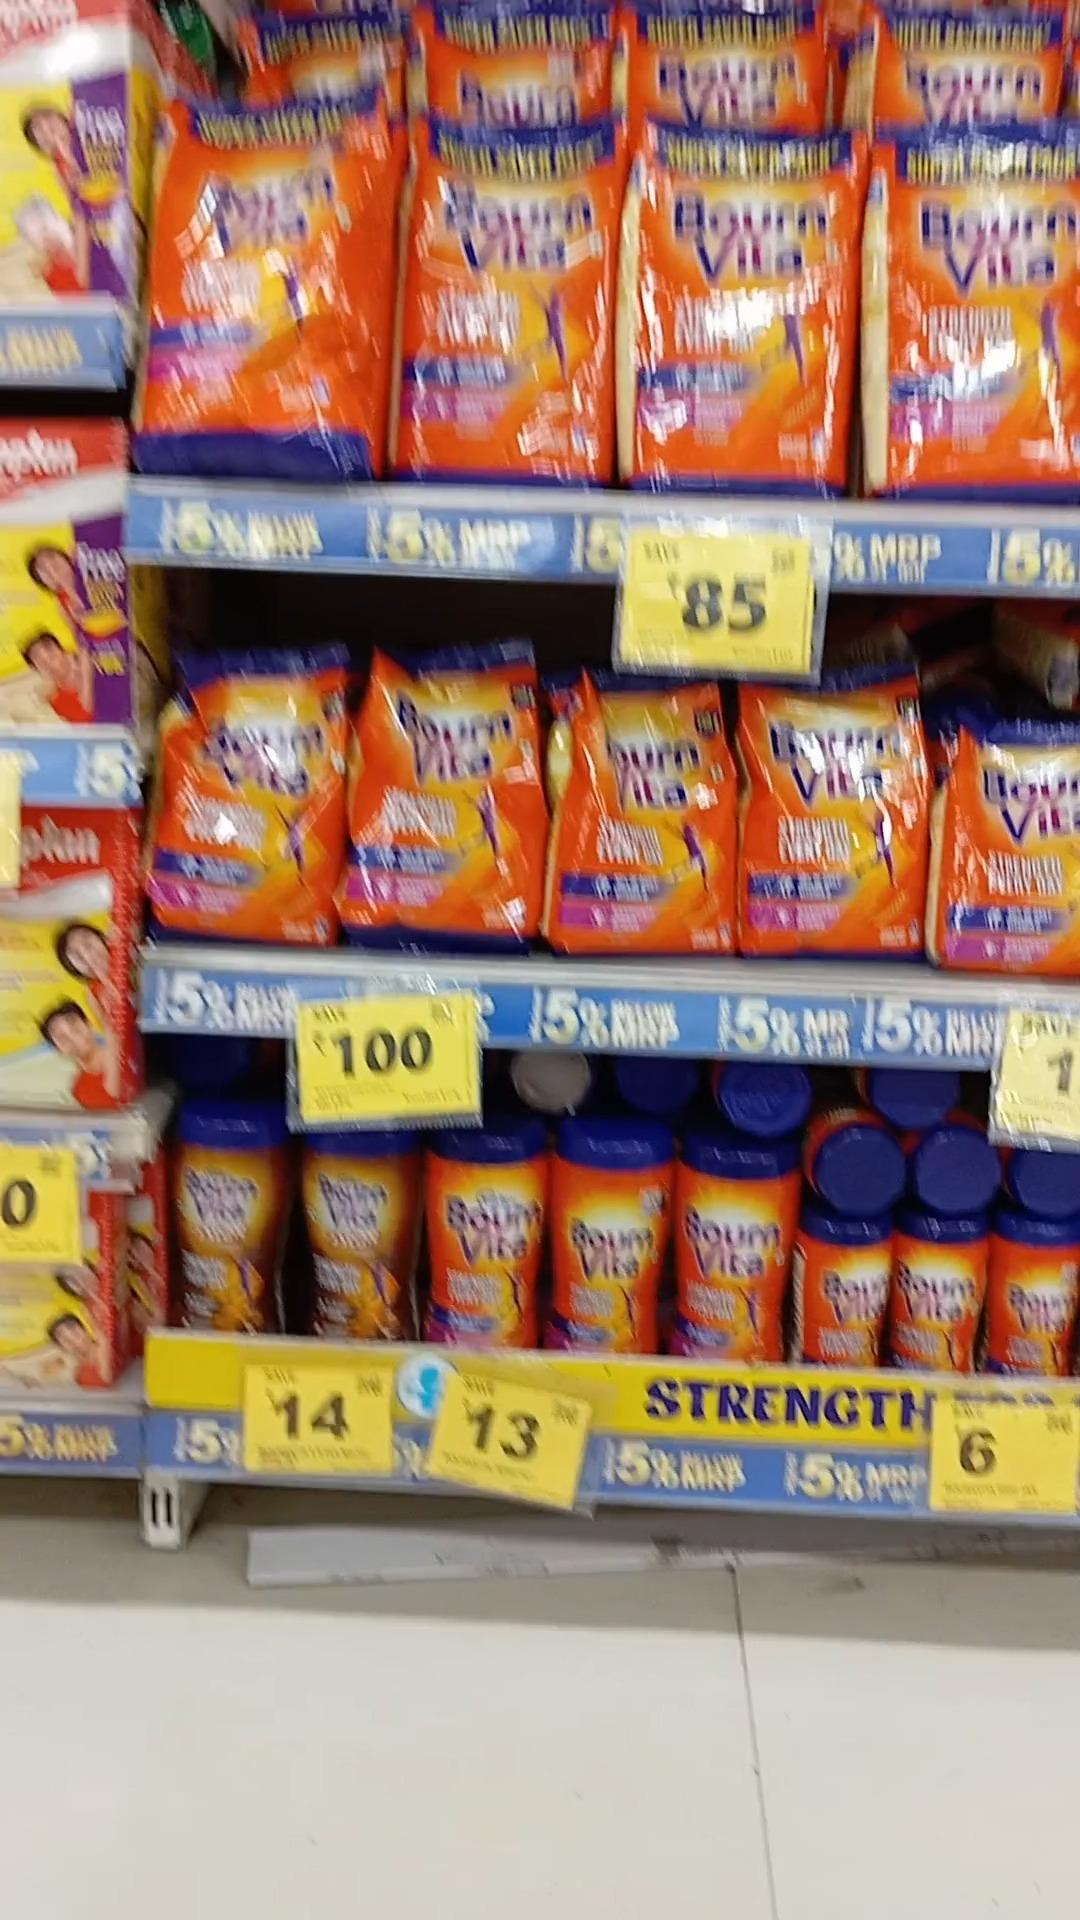BOURN_VITA_1_KG_POUCH: (150, 90, 386, 479), (868, 117, 1080, 505), (632, 111, 845, 496), (404, 111, 607, 479)
BOURN_VITA_200_G_JAR: (992, 1216, 1080, 1378), (893, 1217, 982, 1370), (799, 1215, 886, 1366)
BOURN_VITA_500_G_JAR: (426, 1121, 537, 1349), (553, 1124, 659, 1354), (678, 1137, 787, 1356)
BOURN_VITA_500_G_POUCH: (942, 712, 1080, 972)
BOURN_VITA_750_G_POUCH: (357, 640, 534, 948), (165, 638, 335, 945), (746, 680, 916, 959), (547, 691, 721, 951)
BOURN_VITA_FIVE_STAR_MAGIC_500_G_JAR: (171, 1102, 282, 1329), (302, 1134, 418, 1338)
